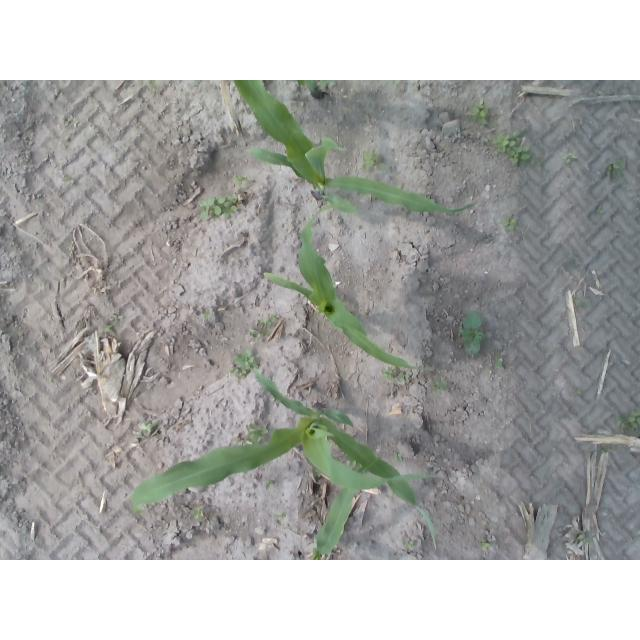Maize: (131, 368, 441, 548), (233, 80, 477, 213), (265, 201, 434, 371), (310, 456, 378, 560), (150, 80, 334, 100)
Weeds: (493, 130, 542, 169), (458, 311, 486, 358), (198, 194, 238, 220), (228, 349, 259, 379), (232, 423, 268, 446), (250, 315, 279, 342), (617, 409, 640, 438), (467, 98, 489, 126), (361, 150, 386, 171), (380, 366, 410, 382), (605, 160, 627, 181), (135, 421, 159, 440), (572, 530, 590, 544), (432, 379, 448, 394), (502, 217, 518, 232), (273, 512, 287, 527), (233, 175, 249, 188), (346, 458, 363, 470), (190, 506, 205, 519), (494, 353, 505, 370), (563, 153, 578, 164), (477, 539, 491, 550), (403, 538, 415, 550), (264, 478, 276, 490), (113, 314, 124, 327), (103, 323, 114, 335), (201, 310, 212, 319), (393, 452, 403, 461), (596, 205, 605, 214), (574, 299, 584, 307), (192, 80, 200, 84)
